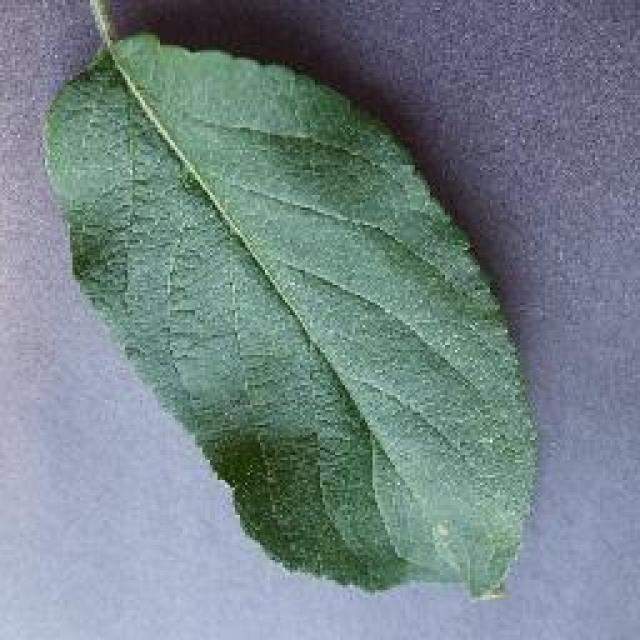apple healthy: (40, 0, 545, 600)
